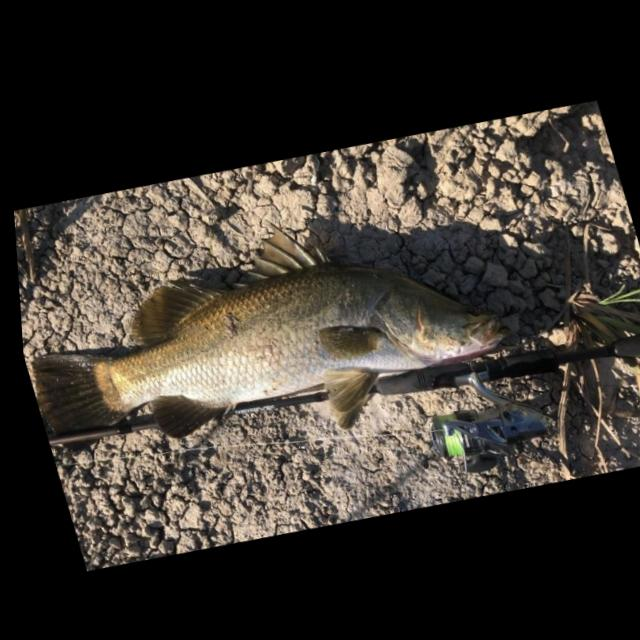Seabass: (11, 161, 533, 503)
